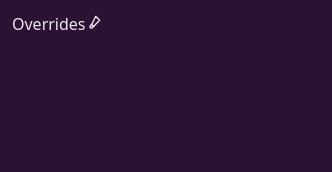
Test: header Overrides field › the toggle shows and hides the override labels
The width and height of the screenshot is (332, 172).
Later steps or results of the test are not shown.
Click the button with aria-label "Overrides": (49, 24) [12,12,86,36]
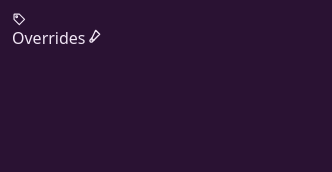
Result: the button with aria-label "Overrides" is pressed at [12,12,86,50]
